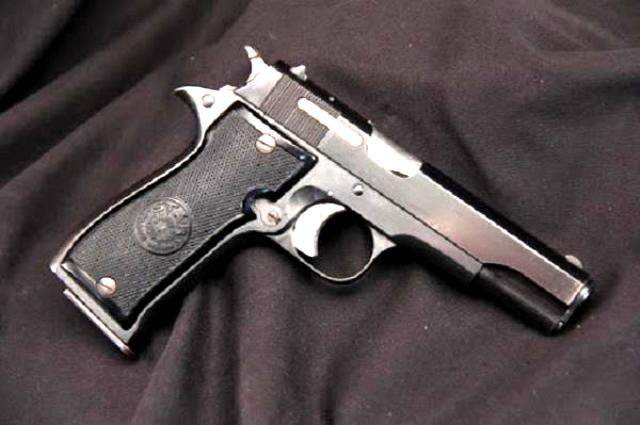pistol: (51, 43, 594, 360)
